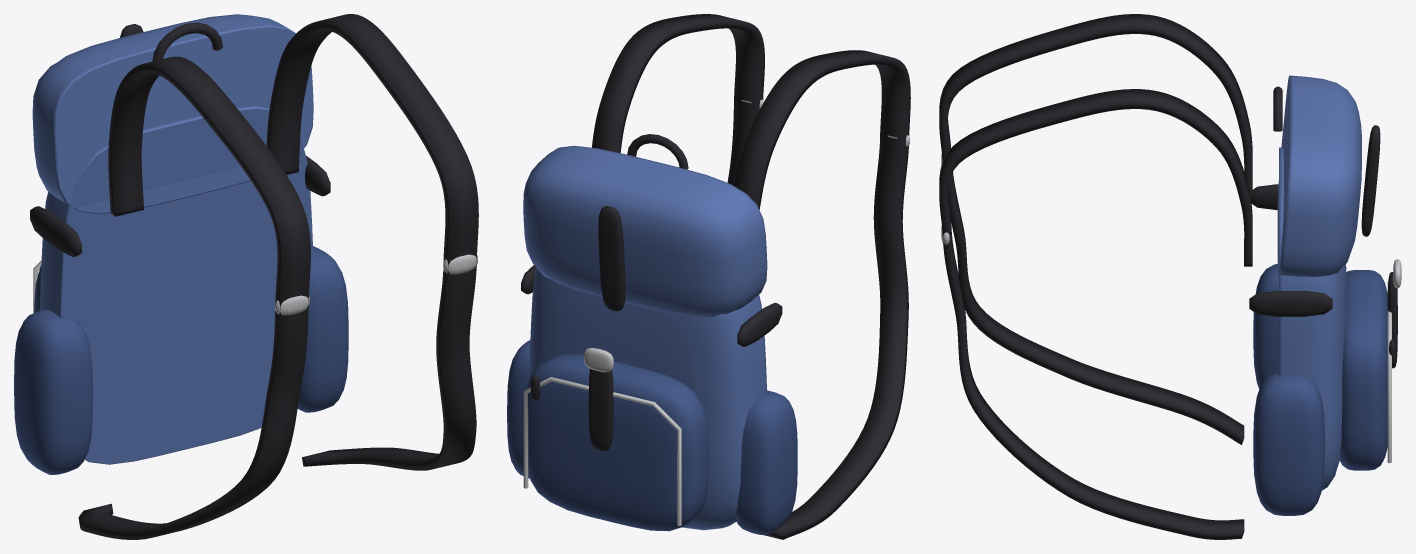
Rendered from backpack.glb.
3 views of the same model, side by side, from view 1: azimuth 30°, elevation 25°; view 2: azimuth 150°, elevation 25°; view 3: azimuth 270°, elevation 25° (orthographic). The views are drawn at different scales.
Visible parts, largest first — view 1: pk_main, pk_web, pk_trim, pk_metal; view 2: pk_main, pk_web, pk_trim, pk_metal; view 3: pk_web, pk_main, pk_trim, pk_metal.
Boxes of the visible parts, x1,y1,x2,y2 form: pk_main: (32, 14, 313, 464); pk_web: (30, 14, 478, 539); pk_trim: (14, 246, 348, 474); pk_metal: (33, 254, 477, 315); pk_main: (523, 145, 767, 530); pk_web: (521, 14, 910, 539); pk_trim: (507, 340, 797, 534); pk_metal: (523, 99, 909, 525); pk_web: (939, 14, 1397, 539); pk_main: (1277, 75, 1361, 490); pk_trim: (1253, 264, 1387, 515); pk_metal: (941, 153, 1401, 463).
Size of the model in its own units: 0.374 by 0.5544 by 0.5424.
